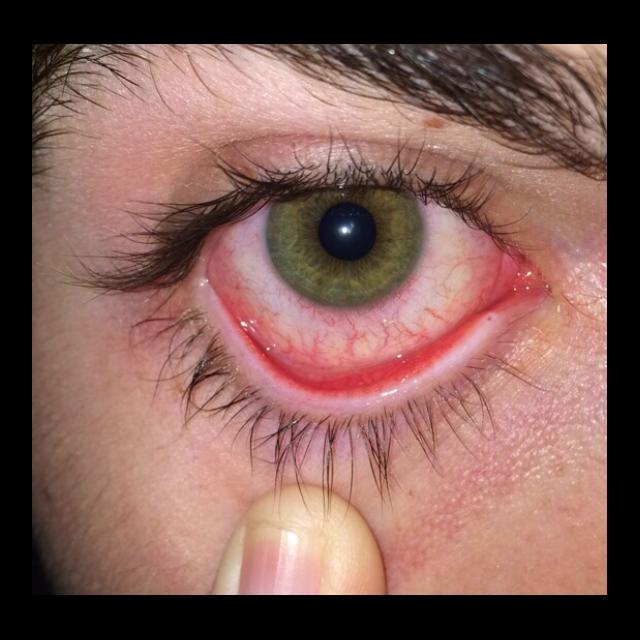eye: (212, 182, 502, 373)
iris: (268, 188, 425, 307)
